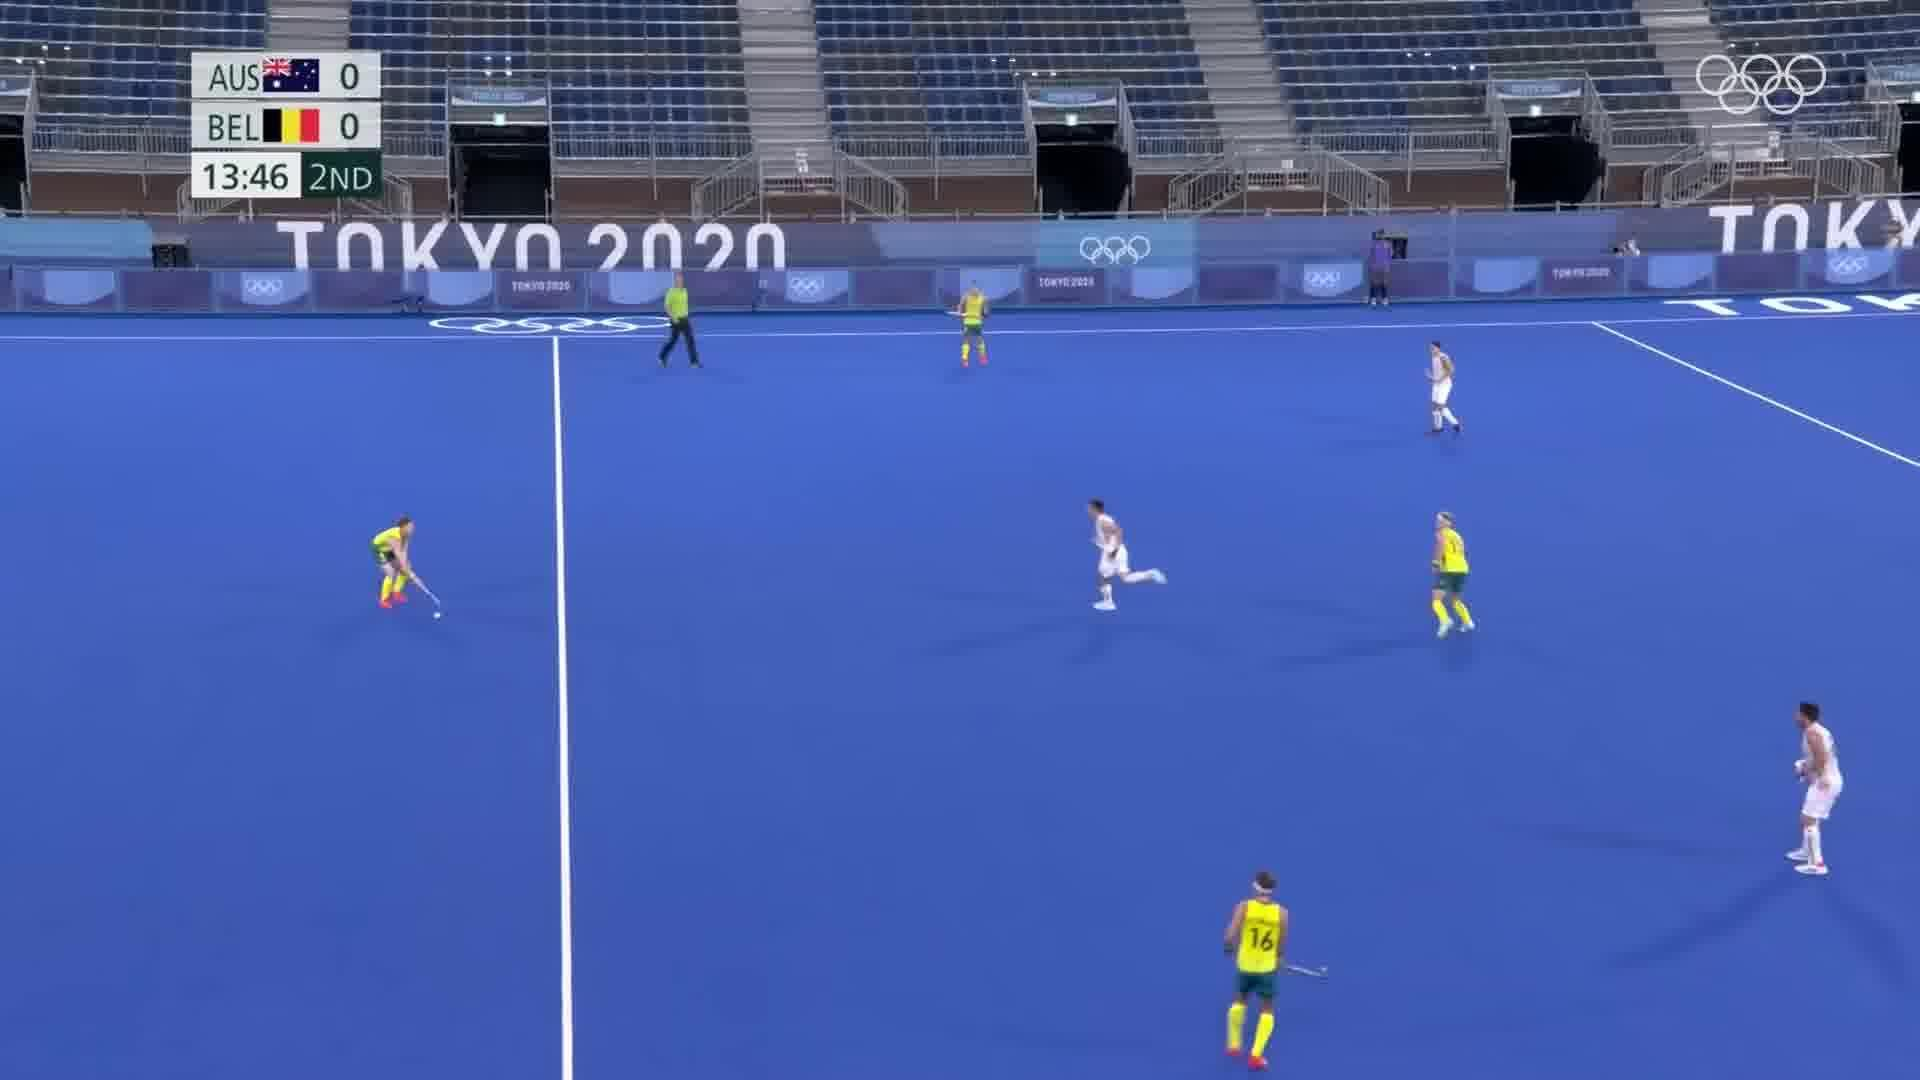ball: (429, 604, 454, 625)
